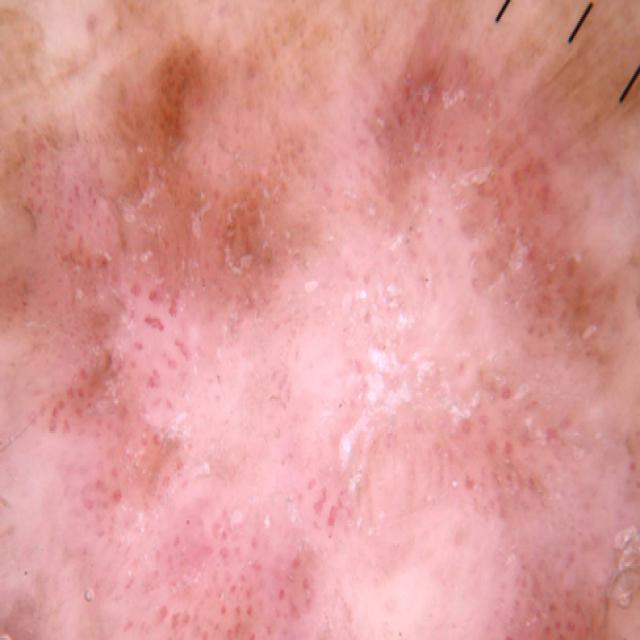Carcinoma: (372, 32, 634, 421), (0, 103, 279, 412), (185, 467, 367, 640), (439, 511, 640, 640), (0, 530, 151, 640)
